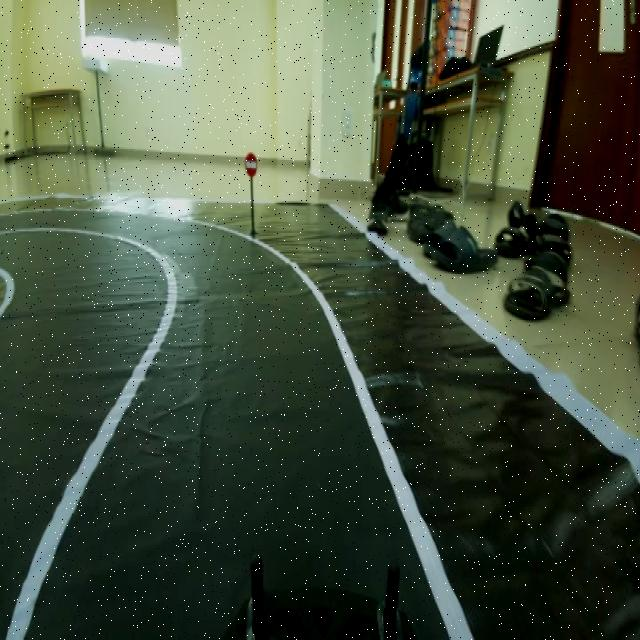no_entry: (241, 148, 260, 178)
